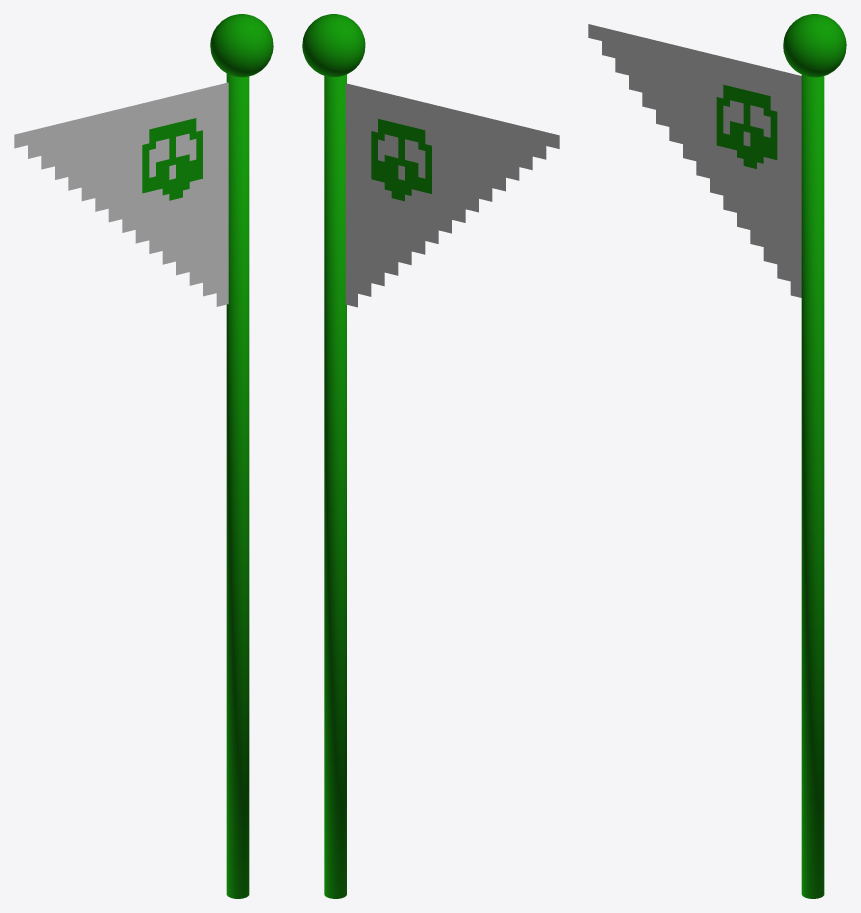
The model's file is flag.obj.
The picture shows the model from 3 angles, left to right: view 1: azimuth 30°, elevation 25°; view 2: azimuth 150°, elevation 25°; view 3: azimuth 330°, elevation 25°; orthographic projection.
Parts seen in each view (by area): view 1: Sphere_Sphere.005; view 2: Sphere_Sphere.005; view 3: Sphere_Sphere.005.
Boxes of the visible parts, x1,y1,x2,y2 form: Sphere_Sphere.005: (14,14,273,898); Sphere_Sphere.005: (302,14,559,898); Sphere_Sphere.005: (588,14,846,898).
Bounding box in the file's own units: 5.01 × 16.53 × 1.08.
